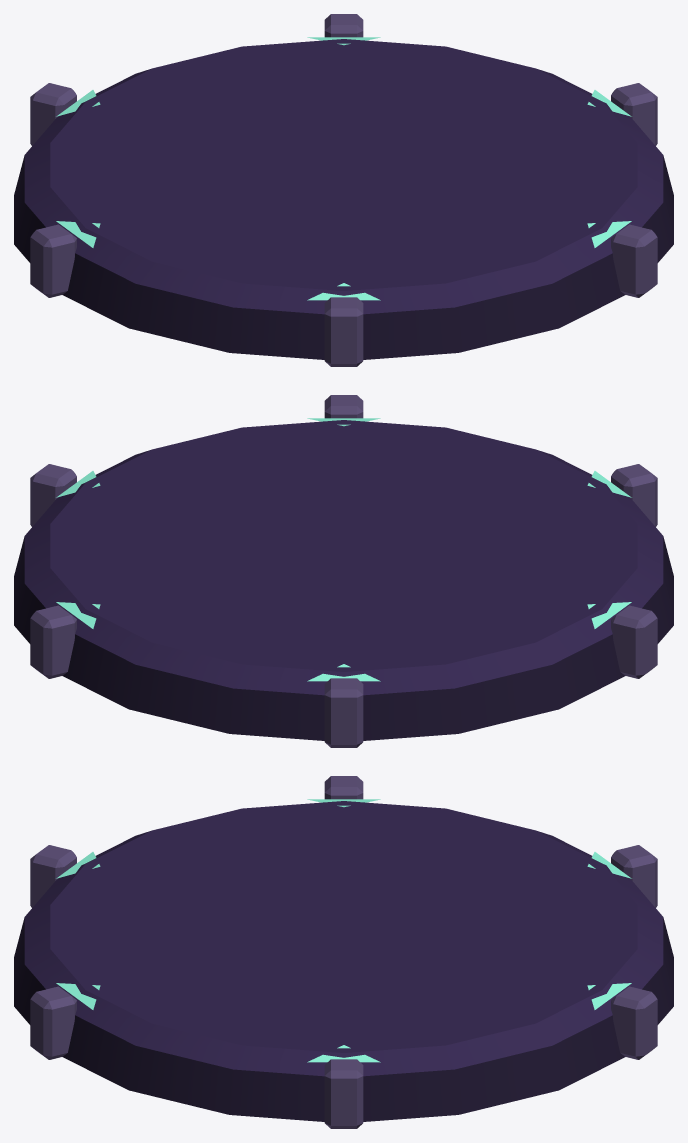
Rendered from jump_pad.glb.
The picture shows the model from 3 angles, top to bottom: view 1: azimuth 30°, elevation 25°; view 2: azimuth 150°, elevation 25°; view 3: azimuth 270°, elevation 25°; orthographic projection.
Visible parts, largest first — view 1: jump_pad, jump_pad_glow; view 2: jump_pad, jump_pad_glow; view 3: jump_pad, jump_pad_glow.
Boxes of the visible parts, box(x1,y1,x2,y2) form: jump_pad: box(14, 14, 673, 366); jump_pad_glow: box(56, 37, 631, 300); jump_pad: box(14, 395, 673, 747); jump_pad_glow: box(56, 418, 631, 681); jump_pad: box(14, 776, 673, 1128); jump_pad_glow: box(56, 799, 631, 1062).
Size of the model in its own units: 3.28 by 0.3 by 3.05.
